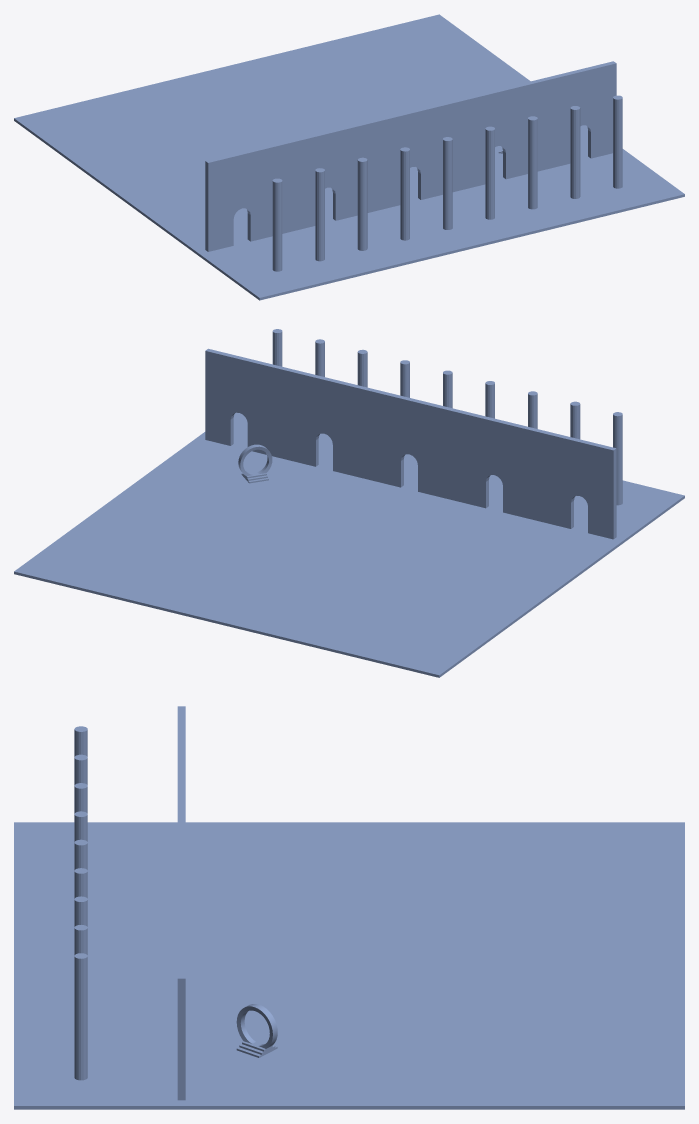
Rendered from house_001.glb.
The picture shows the model from 3 angles, top to bottom: view 1: azimuth 30°, elevation 25°; view 2: azimuth 150°, elevation 25°; view 3: azimuth 270°, elevation 25°; orthographic projection. The views are drawn at different scales.
Visible parts, largest first — view 1: Floor, Cube, SpawnArea, Cylinder; view 2: Floor, Cube, SpawnArea, Cylinder; view 3: Floor, SpawnArea, Cylinder, Cube, Gateway.
Part boxes in pixels (x1,y1,x2,y2): Floor: [14, 14, 684, 300]; Cube: [205, 61, 616, 251]; SpawnArea: [42, 26, 656, 286]; Cylinder: [272, 95, 622, 271]; Floor: [14, 412, 684, 677]; Cube: [205, 348, 616, 539]; SpawnArea: [63, 420, 656, 663]; Cylinder: [272, 329, 622, 505]; Floor: [14, 822, 684, 1109]; SpawnArea: [41, 833, 657, 1065]; Cylinder: [74, 726, 87, 1080]; Cube: [177, 706, 185, 1100]; Gateway: [236, 1004, 277, 1048].
Size of what is drawn, in the model's own units: 50 by 10.29 by 50.
